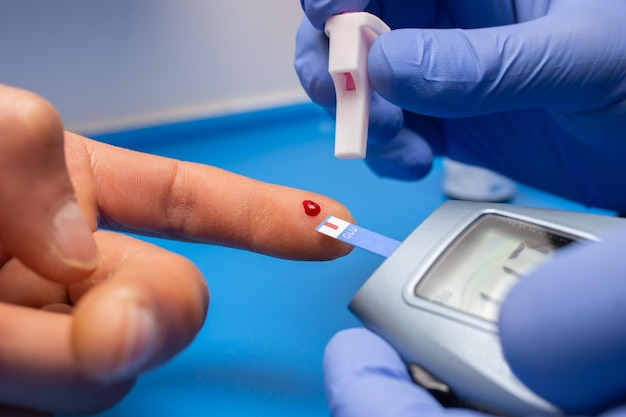blood: (301, 194, 324, 221)
